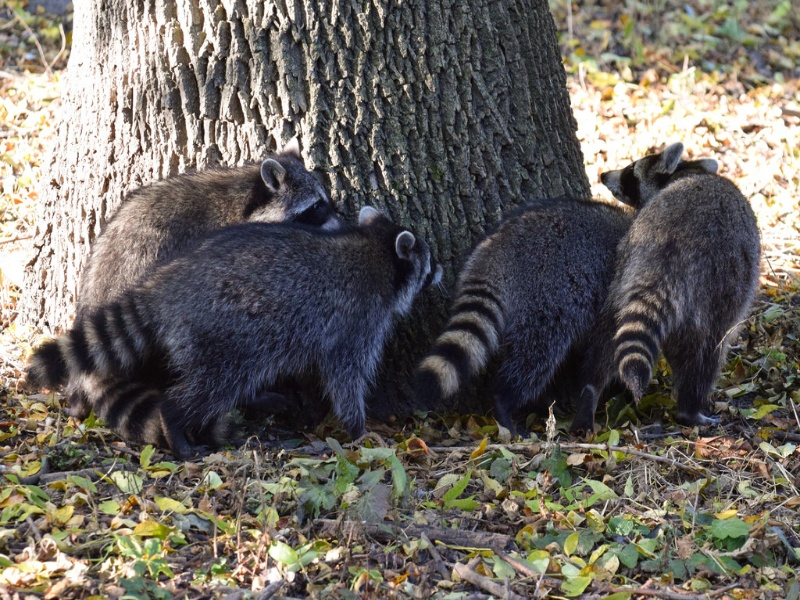raccoon: (23, 206, 446, 453), (62, 148, 347, 449), (414, 195, 633, 432), (597, 144, 766, 419)
